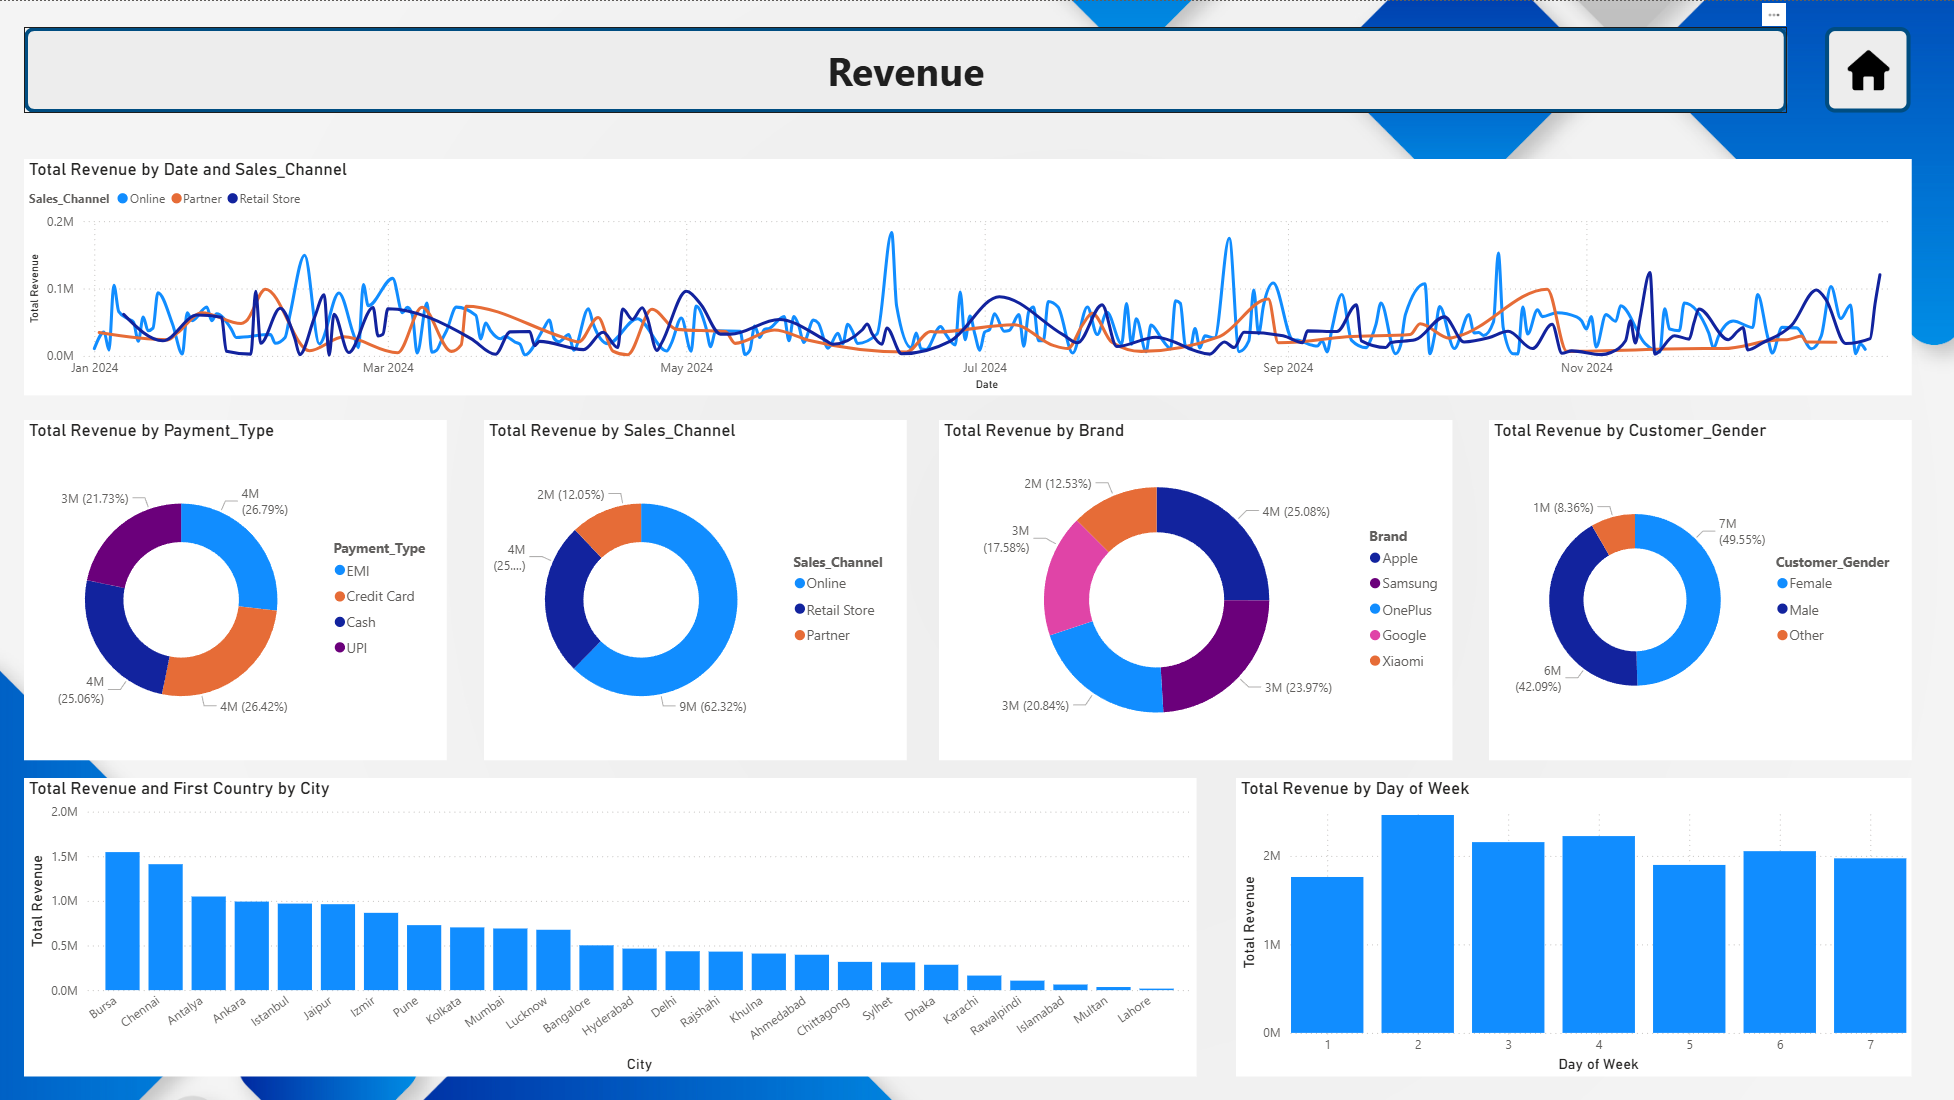

The page's visual inventory and layout, read from the dashboard file:
{"tool":"powerbi","page":{"name":"Revenue","canvas":[1920,1080],"ordinal":3},"visuals":[{"type":"shape","box":[24.1,25.2,1731.4,84.4],"z":0},{"type":"image","box":[1792.8,25.2,84.4,84.4],"z":1000},{"type":"lineChart","fields":{"Y":["Mobile_Sales.Total Revenue"],"Series":["Mobile_Sales.Sales_Channel"],"Category":["Date_Dim.Date"]},"box":[24.4,154.8,1852.8,232.2],"z":2000},{"type":"donutChart","fields":{"Y":["Mobile_Sales.Total Revenue"],"Category":["Mobile_Sales.Payment_Type"]},"box":[24.4,411.5,414.6,334.1],"z":3000},{"type":"donutChart","fields":{"Y":["Mobile_Sales.Total Revenue"],"Category":["Mobile_Sales.Sales_Channel"]},"box":[475.7,411.5,414.6,334.1],"z":4000},{"type":"donutChart","fields":{"Y":["Mobile_Sales.Total Revenue"],"Category":["Mobile_Sales.Brand"]},"box":[922.8,411.5,504.2,334.1],"z":5000},{"type":"donutChart","fields":{"Y":["Mobile_Sales.Total Revenue"],"Category":["Mobile_Sales.Customer_Gender"]},"box":[1462.7,411.5,414.6,334.1],"z":6000},{"type":"clusteredColumnChart","fields":{"Category":["Mobile_Sales.City"],"Y":["Mobile_Sales.Total Revenue"]},"box":[24.2,763,1150.7,293.2],"z":7000},{"type":"clusteredColumnChart","fields":{"Y":["Mobile_Sales.Total Revenue"],"Category":["Date_Dim.Day of Week"]},"box":[1213.8,763,663.1,293.2],"z":8000}]}

Visuals, with their boxes in screenshot pixels (x1, y1, x2, y2), scaled from the page's 1920x1080 canvas onto the 1954x1100 screenshot:
shape: rect(25, 26, 1787, 112)
image: rect(1825, 26, 1910, 112)
lineChart - Mobile_Sales.Total Revenue x Mobile_Sales.Sales_Channel: rect(25, 158, 1910, 394)
donutChart - Mobile_Sales.Total Revenue x Mobile_Sales.Payment_Type: rect(25, 419, 447, 759)
donutChart - Mobile_Sales.Total Revenue x Mobile_Sales.Sales_Channel: rect(484, 419, 906, 759)
donutChart - Mobile_Sales.Total Revenue x Mobile_Sales.Brand: rect(939, 419, 1452, 759)
donutChart - Mobile_Sales.Total Revenue x Mobile_Sales.Customer_Gender: rect(1489, 419, 1911, 759)
clusteredColumnChart - Mobile_Sales.City x Mobile_Sales.Total Revenue: rect(25, 777, 1196, 1076)
clusteredColumnChart - Mobile_Sales.Total Revenue x Date_Dim.Day of Week: rect(1235, 777, 1910, 1076)
